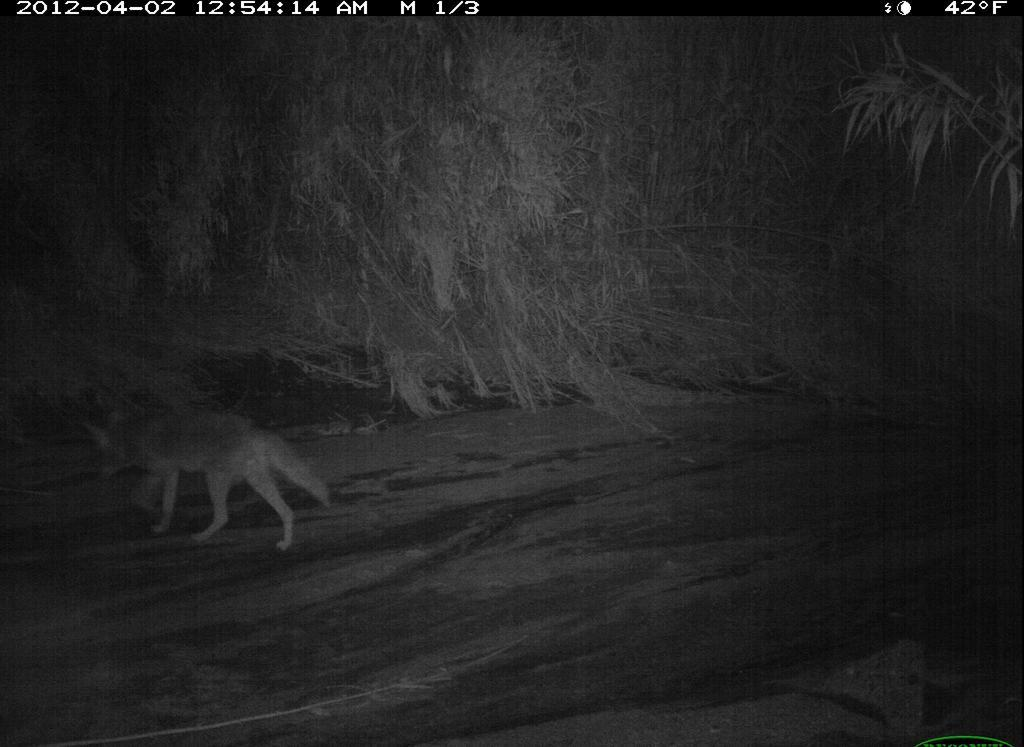coyote: (77, 396, 338, 552)
